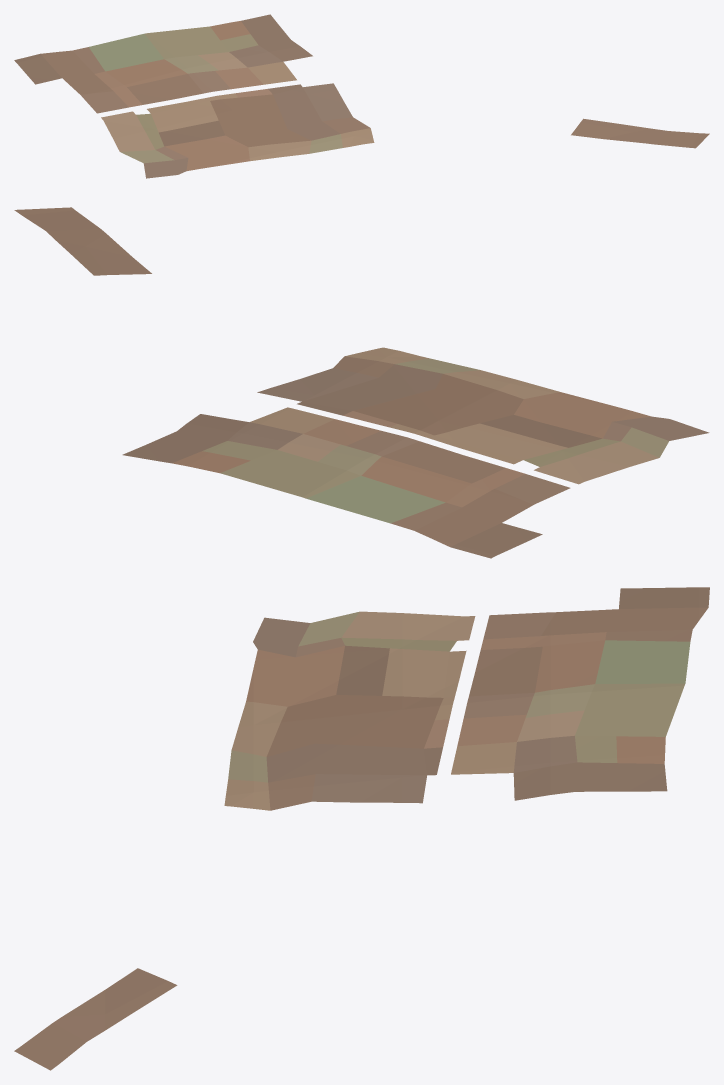
Rendered from farm_-10_-3_soil.glb.
3 renders of one model, top to bottom at view 1: azimuth 30°, elevation 25°; view 2: azimuth 150°, elevation 25°; view 3: azimuth 270°, elevation 25°, orthographic. The views are drawn at different scales.
Visible parts, largest first — view 1: geometry_0; view 2: geometry_0; view 3: geometry_0.
Boxes of the visible parts, box(x1,y1,x2,y2) form: geometry_0: box(14, 14, 709, 178); geometry_0: box(14, 207, 709, 558); geometry_0: box(14, 587, 709, 1070).
Size of the model in its own units: 518 by 50.78 by 375.
